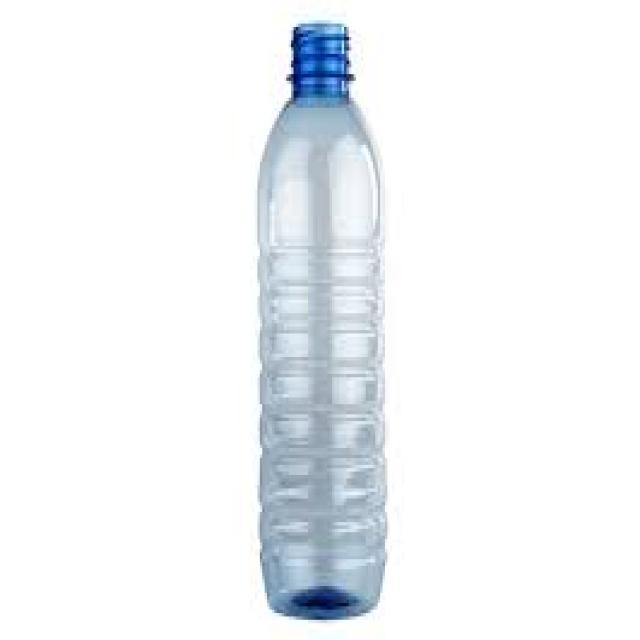Vidrio: (253, 27, 387, 615)
